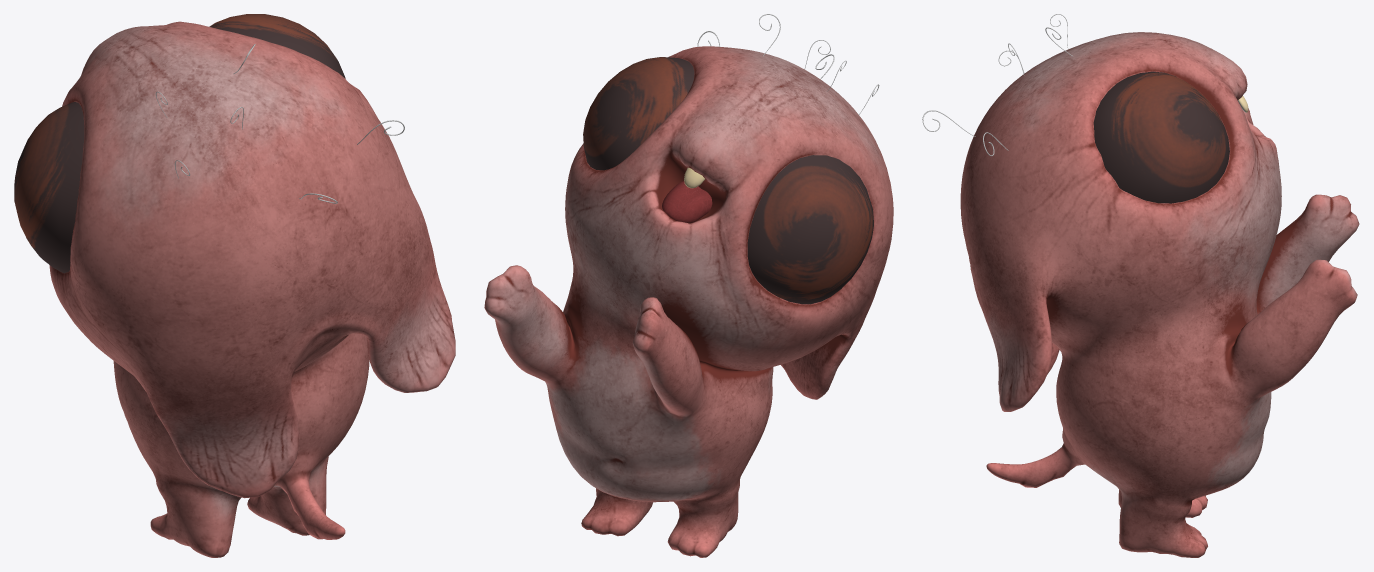
Rendered from buddyHamster.gltf.
3 views of the same model, side by side, from view 1: azimuth 30°, elevation 25°; view 2: azimuth 150°, elevation 25°; view 3: azimuth 270°, elevation 25° (orthographic). The views are drawn at different scales.
Visible parts, largest first — view 1: body, hair; view 2: body, hair; view 3: body, hair.
Boxes of the visible parts, <box> form: body: <box>14,14,455,557</box>; hair: <box>155,44,404,203</box>; body: <box>484,46,893,557</box>; hair: <box>697,14,879,114</box>; body: <box>960,32,1359,557</box>; hair: <box>922,14,1072,156</box>.
Size of the model in its own units: 0.9599 by 1.4 by 1.16.
